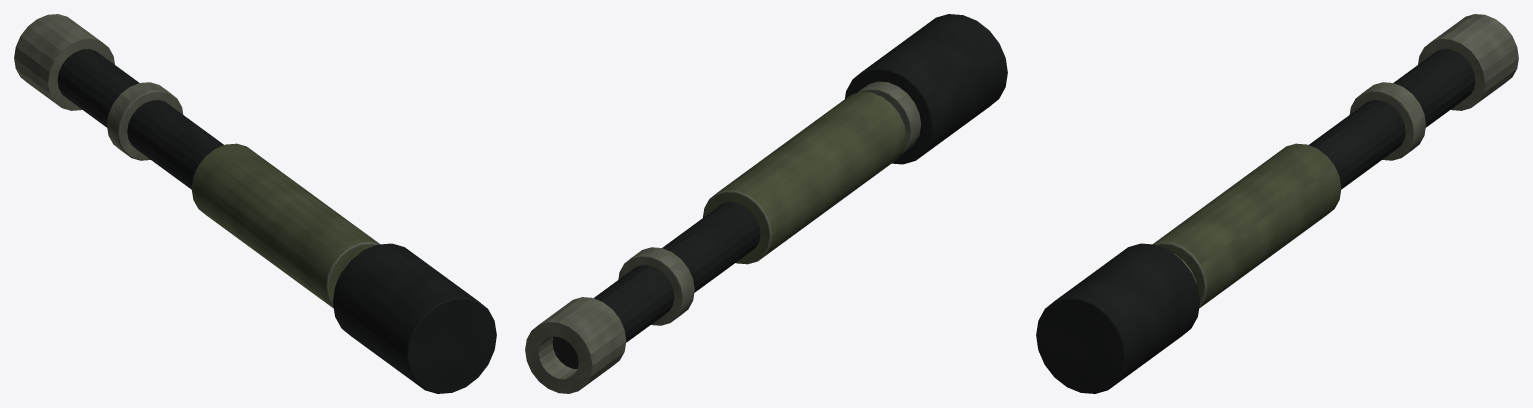
Rendered from foundry-barrel.fbx.
The picture shows the model from 3 angles, left to right: view 1: azimuth 30°, elevation 25°; view 2: azimuth 150°, elevation 25°; view 3: azimuth 330°, elevation 25°; orthographic projection.
Parts seen in each view (by area): view 1: foundry-barrel_Steel, foundry-barrel_Armor, foundry-barrel_Edge; view 2: foundry-barrel_Steel, foundry-barrel_Armor, foundry-barrel_Edge; view 3: foundry-barrel_Steel, foundry-barrel_Armor, foundry-barrel_Edge.
Boxes of the visible parts, <box> form: foundry-barrel_Steel: <box>57,49,496,393</box>; foundry-barrel_Armor: <box>191,143,379,308</box>; foundry-barrel_Edge: <box>14,14,358,283</box>; foundry-barrel_Steel: <box>552,14,1007,368</box>; foundry-barrel_Armor: <box>703,92,906,264</box>; foundry-barrel_Edge: <box>525,81,921,393</box>; foundry-barrel_Steel: <box>1036,49,1475,393</box>; foundry-barrel_Armor: <box>1153,143,1341,308</box>; foundry-barrel_Edge: <box>1174,14,1518,283</box>.
Bounding box in the file's own units: 43 × 43 × 333.
4 materials, 4 textured.
